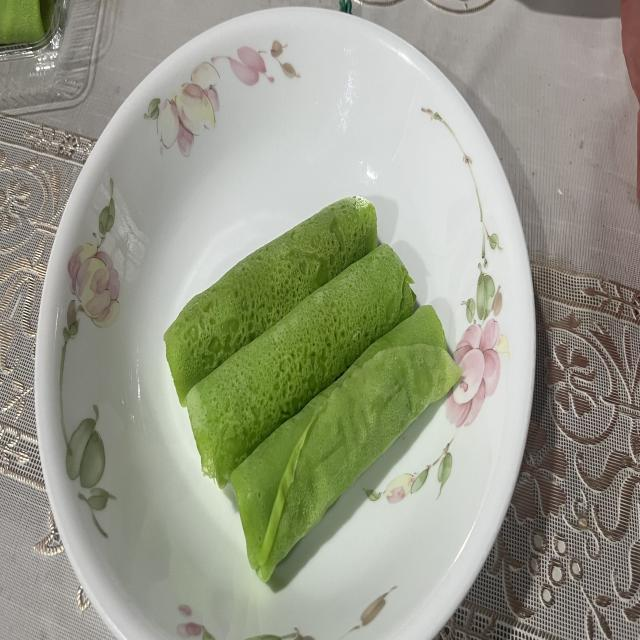Kuih-Ketayap: (231, 307, 461, 582), (186, 244, 415, 487), (164, 196, 378, 407)
